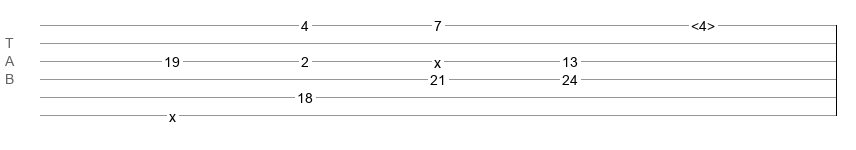13: (562, 54, 578, 64)
18: (297, 90, 313, 100)
19: (164, 54, 180, 64)
2: (301, 54, 309, 64)
21: (430, 72, 446, 82)
24: (562, 72, 578, 82)
4: (301, 18, 309, 28)
7: (434, 18, 442, 28)
harmonic: (691, 18, 715, 28)
x: (169, 109, 176, 117), (434, 55, 441, 63)
